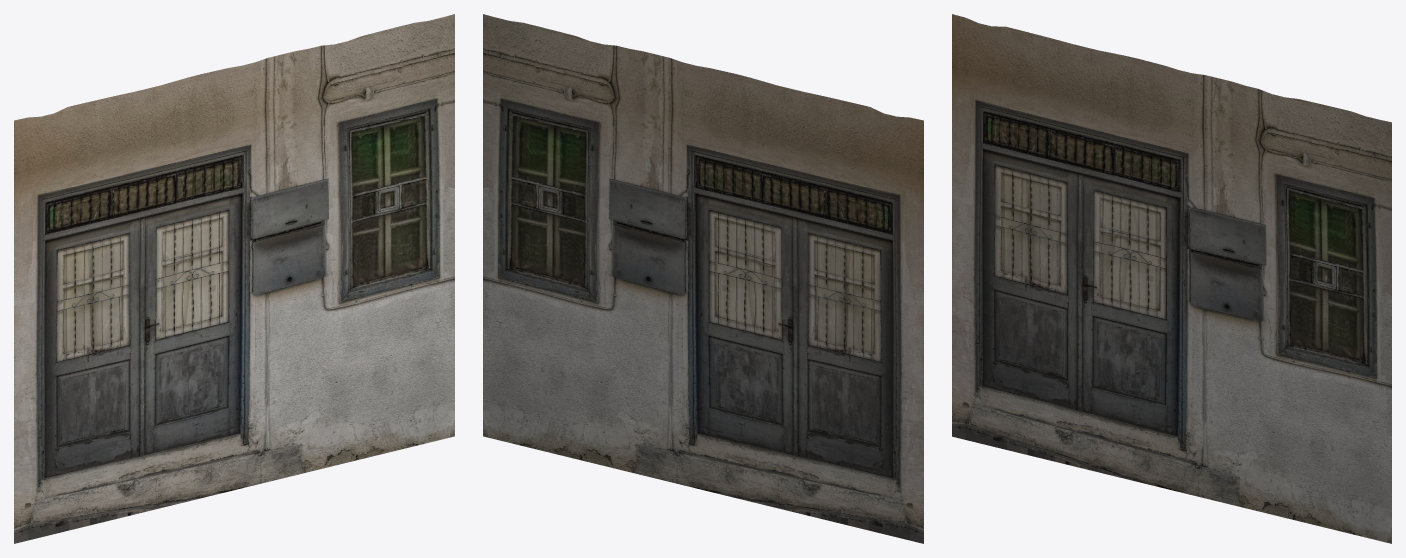
The model's file is door_wall.glb.
3 views of the same model, side by side, from view 1: azimuth 30°, elevation 25°; view 2: azimuth 150°, elevation 25°; view 3: azimuth 330°, elevation 25° (orthographic).
Visible parts, largest first — view 1: door_wall; view 2: door_wall; view 3: door_wall.
Boxes of the visible parts, x1,y1,x2,y2 form: door_wall: (14,14,454,543); door_wall: (483,14,923,543); door_wall: (952,14,1391,543).
Size of the model in its own units: 3.82 by 3.51 by 0.
Materials: 1 (1 with a texture image).
